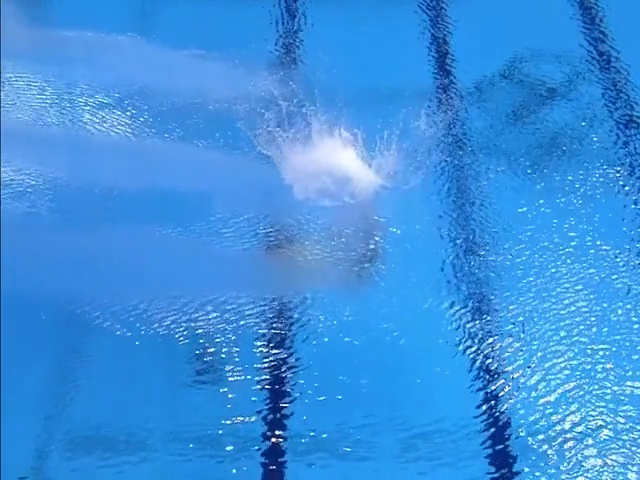splash: (225, 57, 438, 207)
